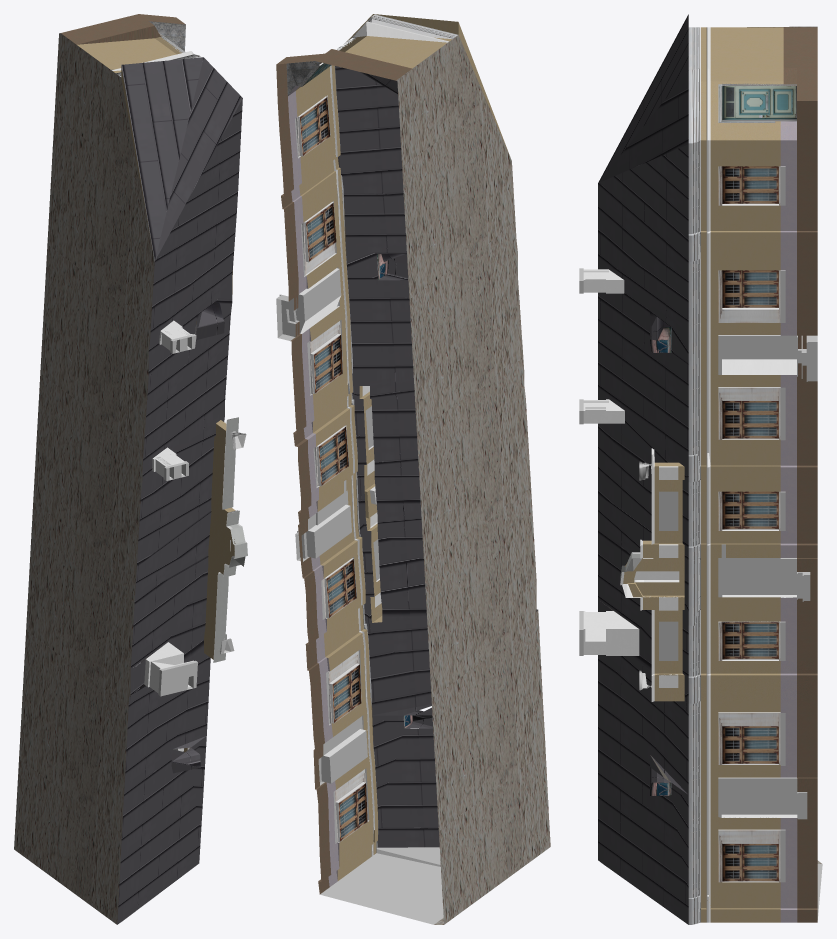
File: uus_33-origo.obj
The picture shows the model from 3 angles, left to right: view 1: azimuth 30°, elevation 25°; view 2: azimuth 150°, elevation 25°; view 3: azimuth 270°, elevation 25°; orthographic projection. The views are drawn at different scales.
Parts seen in each view (by area): view 1: Uus_33; view 2: Uus_33, xxx; view 3: Uus_33.
Part boxes in pixels (box(x1,y1,x2,y2)): Uus_33: box(14, 14, 247, 924); Uus_33: box(276, 14, 550, 924); xxx: box(320, 847, 443, 924); Uus_33: box(579, 14, 821, 924).
Size of the model in its own units: 7 by 32.5 by 8.24.
